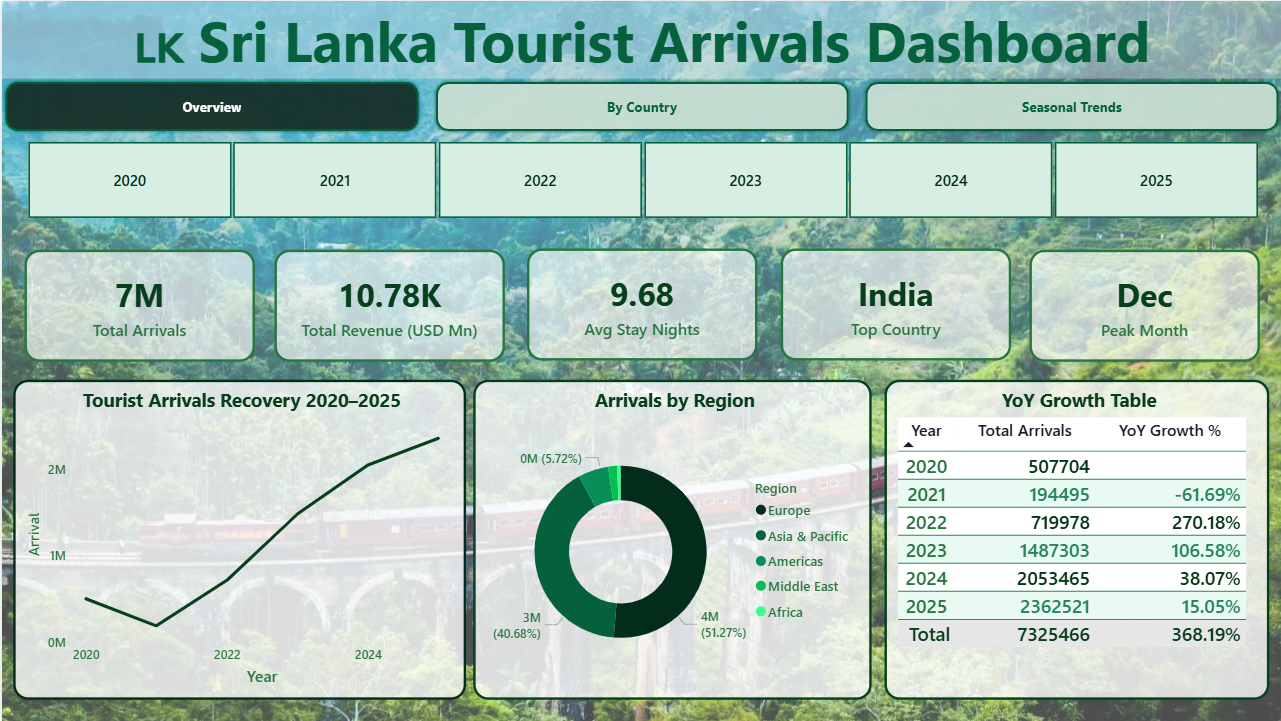

The dashboard page shown, as its layout file describes it:
{"tool":"powerbi","page":{"name":"Overview","canvas":[1280,720],"ordinal":0},"visuals":[{"type":"textbox","title":"🇱🇰 Sri Lanka Tourist Arrivals Dashboard","box":[0,0,1280,77.2],"z":0},{"type":"slicer","fields":{"Values":["Fact_Annual_Summary.Year"]},"box":[0,133.9,1280,90.5],"z":1000},{"type":"card","fields":{"Values":["_Measures.Total Revenue (USD Mn)"]},"box":[272.7,248.5,230.4,112.2],"z":2000},{"type":"lineChart","title":"Tourist Arrivals Recovery 2020–2025","fields":{"Category":["Fact_Annual_Summary.Year"],"Y":["Sum(Fact_Annual_Summary.Total_Arrivals)"]},"box":[10.9,378.8,452.4,319.7],"z":3000},{"type":"tableEx","title":"YoY Growth Table","fields":{"Values":["Fact_Annual_Summary.Year","Sum(Fact_Annual_Summary.Total_Arrivals)","Sum(Fact_Annual_Summary.YoY_Growth_Pct)"]},"box":[883.1,378.8,384.9,319.7],"z":4000},{"type":"donutChart","title":"Arrivals by Region","fields":{"Category":["Fact_Region_Annual.Region"],"Y":["Sum(Fact_Region_Annual.Arrivals)"]},"box":[471.7,378.8,398.1,319.7],"z":5000},{"type":"card","fields":{"Values":["_Measures.Donut Warning"]},"box":[471.7,547.7,398.1,43.4],"z":6000},{"type":"pageNavigator","box":[0,77.2,1280,56.7],"z":7000},{"type":"card","fields":{"Values":["_Measures.Avg Stay Nights"]},"box":[524.8,247.3,230.4,112.2],"z":8000},{"type":"card","fields":{"Values":["_Measures.Top Country"]},"box":[779.4,247.3,230.4,112.2],"z":9000},{"type":"card","fields":{"Values":["_Measures.Peak Month"]},"box":[1027.9,248.5,230.4,112.2],"z":10000},{"type":"card","fields":{"Values":["_Measures.Total Arrivals"]},"box":[22.9,248.5,230.4,112.2],"z":11000}]}

Visuals, with their boxes in screenshot pixels (x1, y1, x2, y2), scaled from the page's 1280x720 canvas onto the 1281x721 screenshot:
"🇱🇰 Sri Lanka Tourist Arrivals Dashboard" textbox: 0:0:1280:77
slicer - Fact_Annual_Summary.Year: 0:134:1280:225
card - _Measures.Total Revenue (USD Mn): 273:249:503:361
"Tourist Arrivals Recovery 2020–2025" lineChart: 11:379:464:699
"YoY Growth Table" tableEx: 884:379:1269:699
"Arrivals by Region" donutChart: 472:379:870:699
card - _Measures.Donut Warning: 472:548:870:592
pageNavigator: 0:77:1280:134
card - _Measures.Avg Stay Nights: 525:248:756:360
card - _Measures.Top Country: 780:248:1011:360
card - _Measures.Peak Month: 1029:249:1259:361
card - _Measures.Total Arrivals: 23:249:253:361
